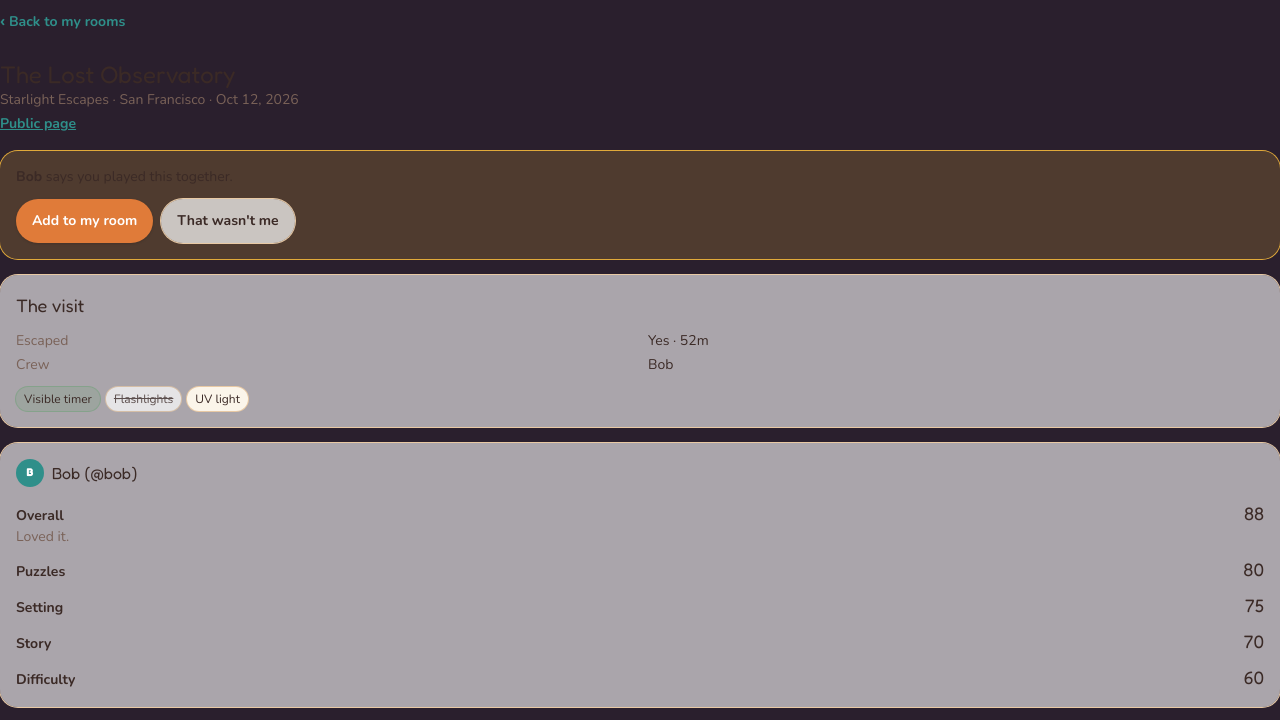
Test: ReviewDetail › lets a tagged friend accept or decline
The width and height of the screenshot is (1280, 720).
Expected: the element with test id "review-tag-answer" shows "Bob says you played this together", left=0, top=151, right=1279, bottom=259
What coordinates should you click on to do the following:
click the button with test id "tag-accept"
I would click on:
 (85, 221)
Its box is left=16, top=199, right=153, bottom=243.
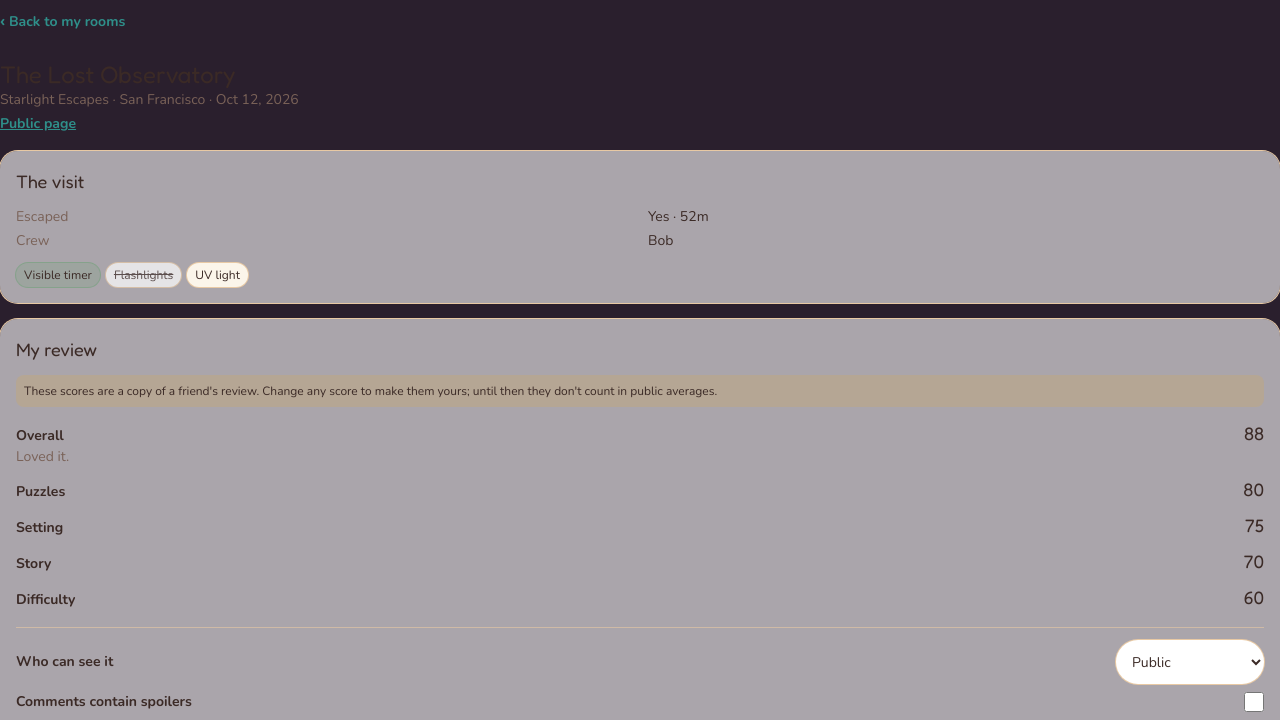
Expected: the text with test id "review-copied" is shown, left=16, top=375, right=1264, bottom=407
Expected: the element with test id "review-tag-answer" is gone
